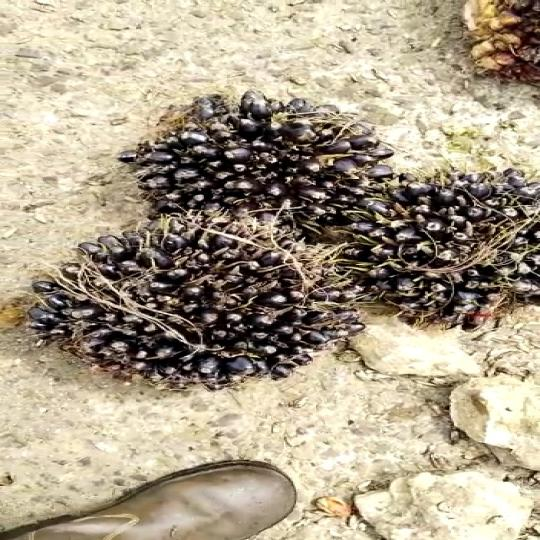mentah: (30, 219, 343, 380), (303, 136, 540, 317), (132, 83, 389, 236)
